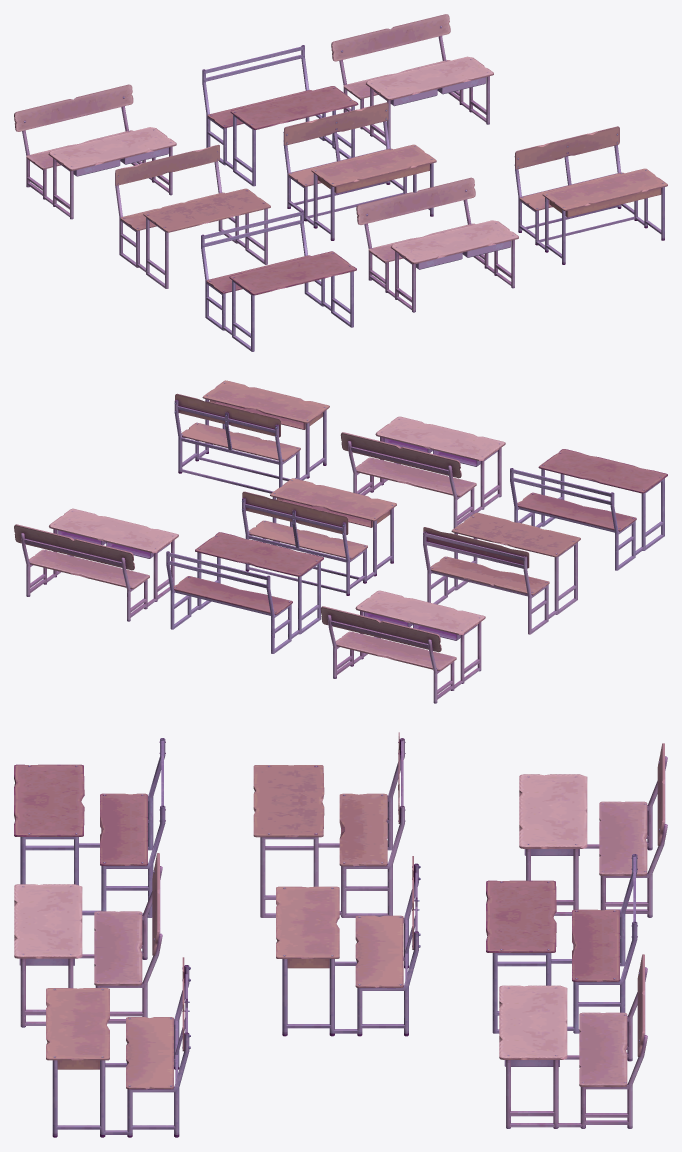
The model's file is pupitres_sin1.glb.
3 views of the same model, one above another, from view 1: azimuth 30°, elevation 25°; view 2: azimuth 150°, elevation 25°; view 3: azimuth 270°, elevation 25° (orthographic). The views are drawn at different scales.
Parts seen in each view (by area): view 1: A1Pupitres; view 2: A1Pupitres; view 3: A1Pupitres.
Boxes of the visible parts, <box> form: A1Pupitres: <box>14,14,667,351</box>; A1Pupitres: <box>14,380,667,703</box>; A1Pupitres: <box>14,732,667,1137</box>.
Bounding box in the file's own units: 8.73 × 1.61 × 8.18.
Materials: 4 (4 with a texture image).
